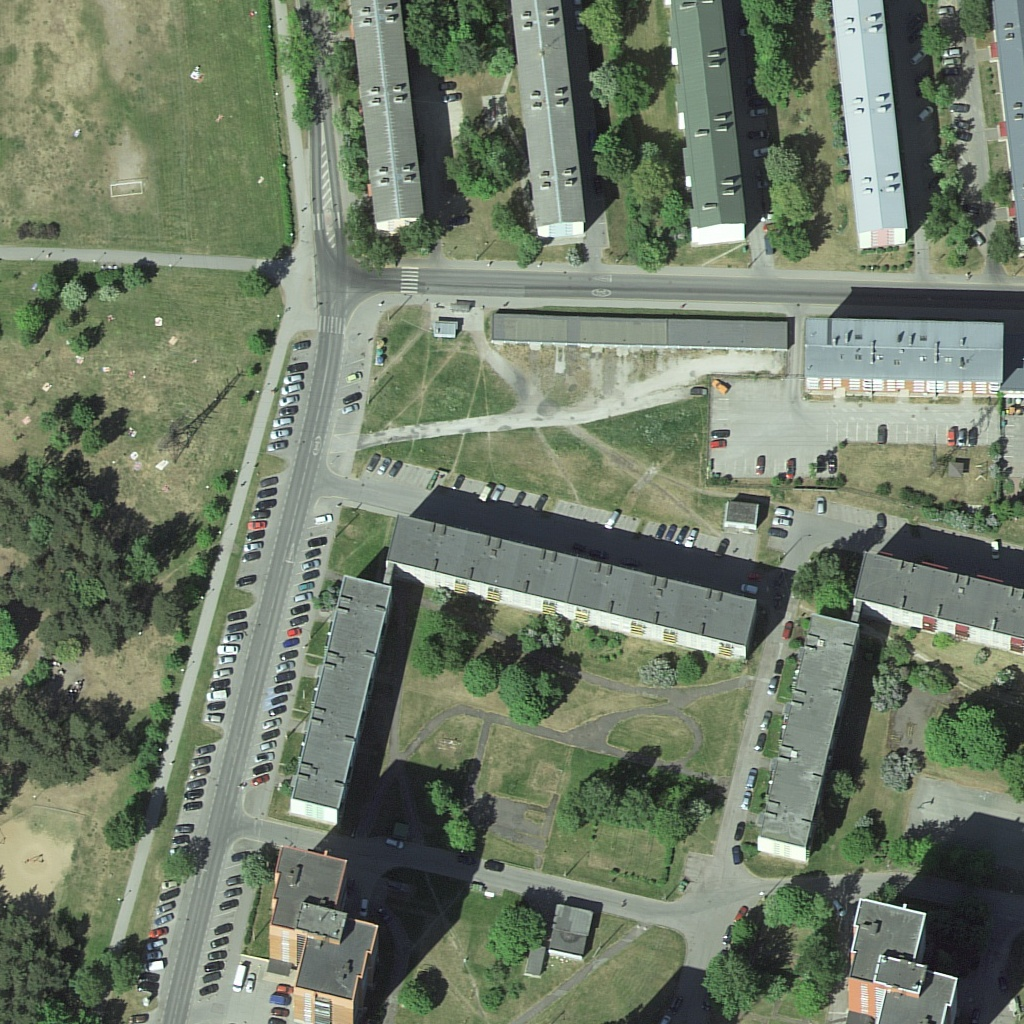building: (381, 515, 765, 660), (283, 571, 396, 826), (756, 612, 857, 861), (830, 0, 914, 248), (348, 0, 434, 231), (512, 1, 588, 239), (680, 6, 754, 247), (268, 846, 365, 1024), (847, 553, 1012, 650), (798, 321, 1008, 397), (490, 307, 791, 353), (854, 896, 952, 1024)
